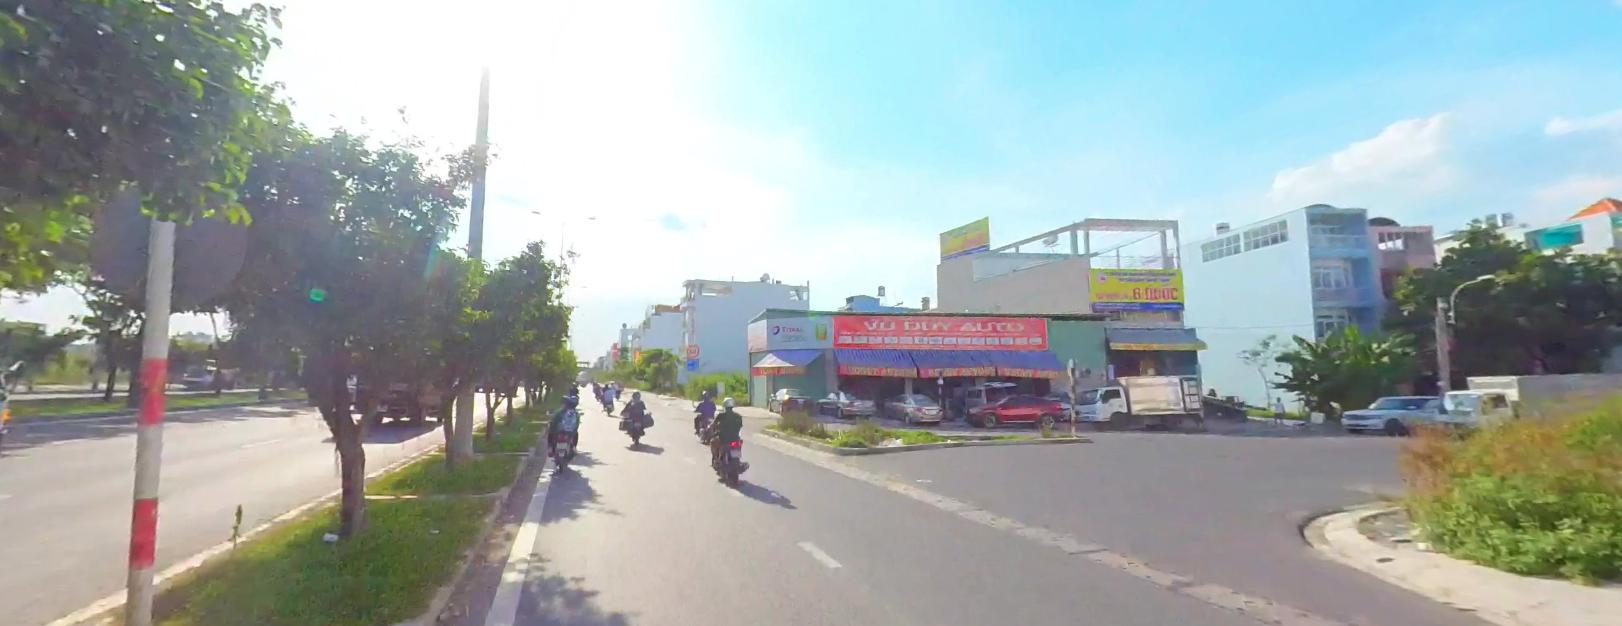Gioi han toc do: (686, 342, 698, 356)
